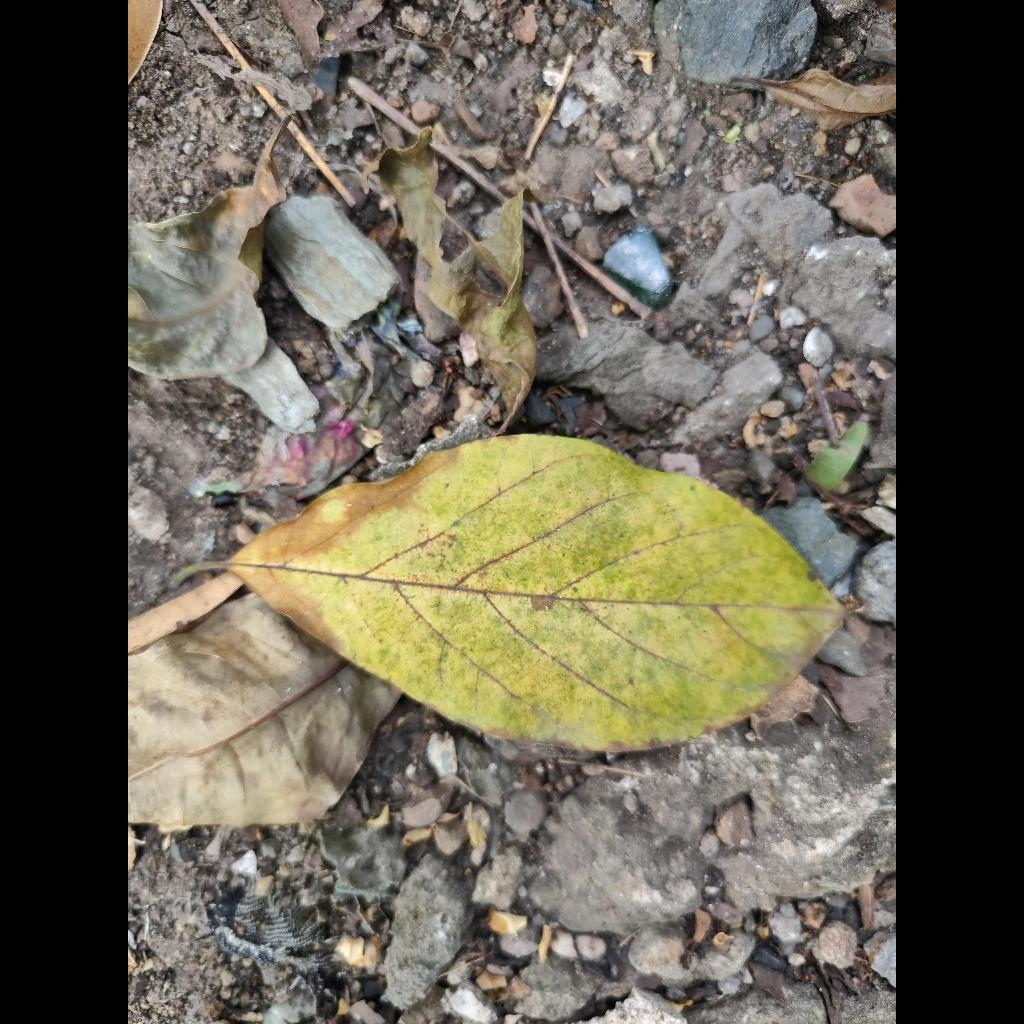nutrient_deficiency: (227, 436, 842, 751)
